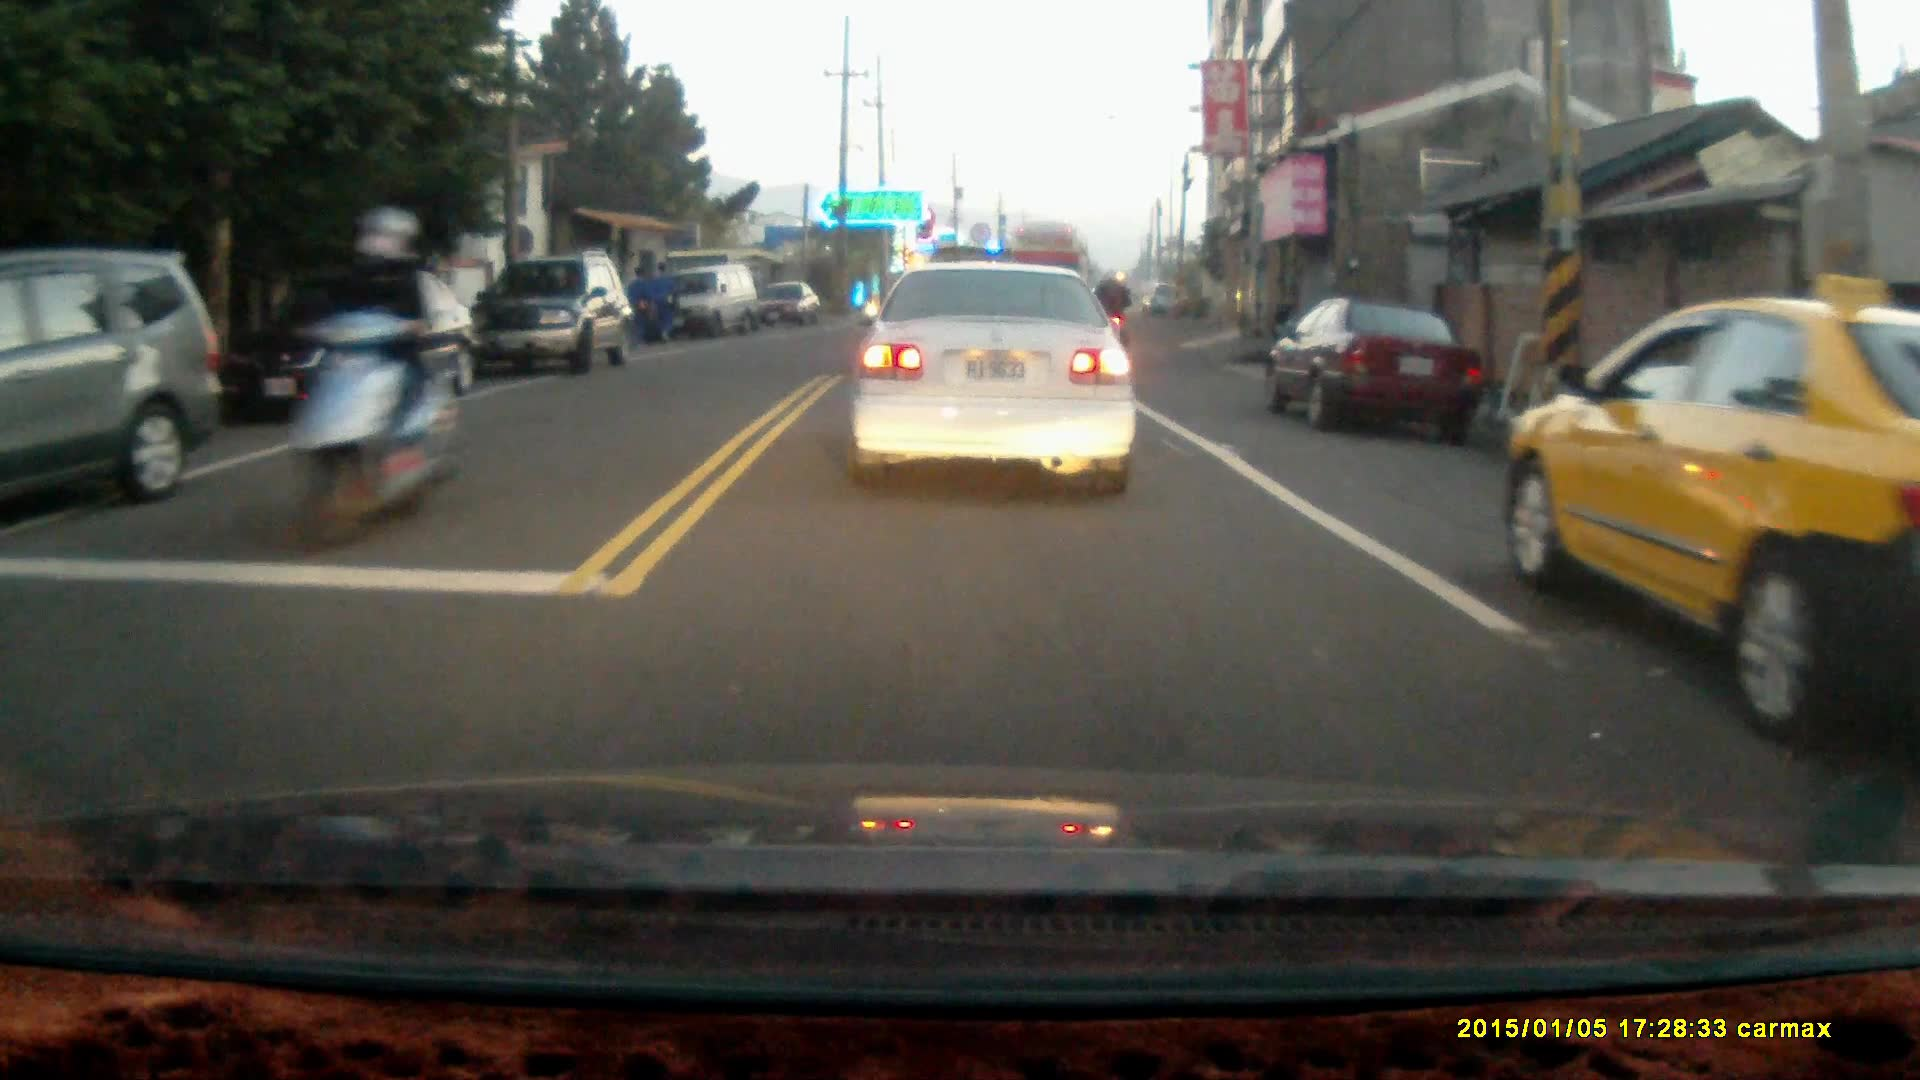pedestrian: (648, 258, 675, 346), (625, 263, 653, 346)
rider: (281, 202, 461, 560), (1085, 270, 1131, 371)
vehicle: (1507, 274, 1920, 744), (852, 262, 1136, 504), (1, 261, 230, 535), (226, 267, 485, 419), (1264, 299, 1488, 440), (462, 253, 636, 379), (652, 268, 760, 342), (740, 282, 822, 333)
